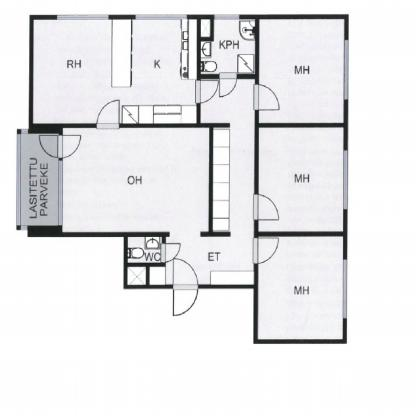door: (172, 258, 200, 313), (37, 136, 82, 158), (251, 84, 280, 112), (254, 194, 280, 223), (96, 96, 119, 128), (253, 237, 278, 265), (194, 80, 217, 103), (218, 73, 237, 99), (160, 243, 180, 260)
window: (16, 134, 22, 220), (134, 13, 188, 21), (344, 40, 351, 100), (342, 262, 349, 318), (59, 159, 65, 224), (342, 152, 347, 212), (57, 14, 107, 19), (212, 15, 237, 20), (20, 227, 27, 231), (23, 130, 27, 133)
zone: (34, 19, 201, 128), (62, 129, 207, 233), (258, 127, 342, 233), (259, 19, 344, 122), (258, 237, 342, 340), (199, 83, 254, 238), (165, 235, 255, 285), (200, 18, 259, 79), (21, 134, 57, 228), (127, 236, 164, 285)
